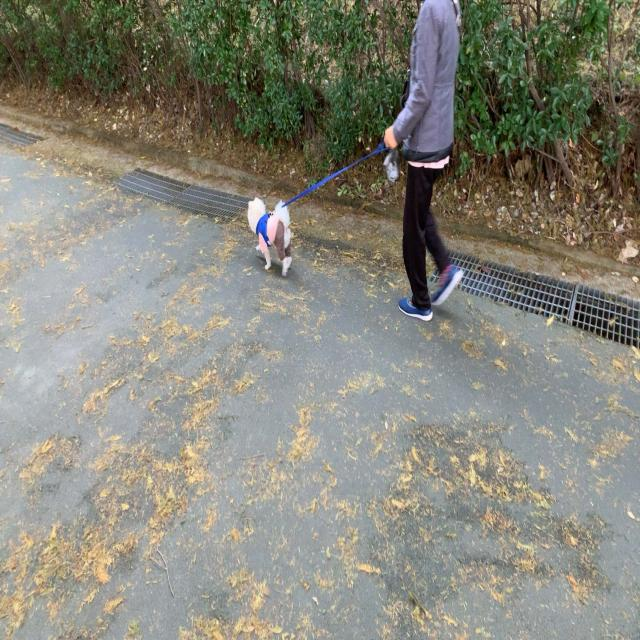Leashed_Dog: (247, 125, 433, 277)
